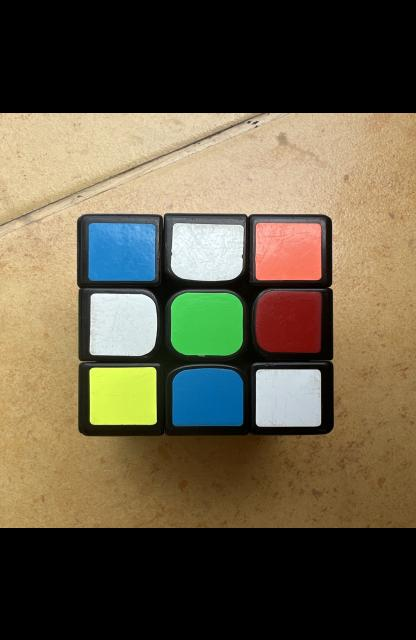Blue: (172, 368, 243, 425), (88, 221, 156, 280)
Green: (170, 292, 243, 355)
Orange: (256, 221, 322, 280)
Red: (256, 290, 322, 351)
White: (170, 222, 244, 280), (89, 292, 157, 355), (256, 369, 322, 426)
Yellow: (89, 366, 157, 424)
